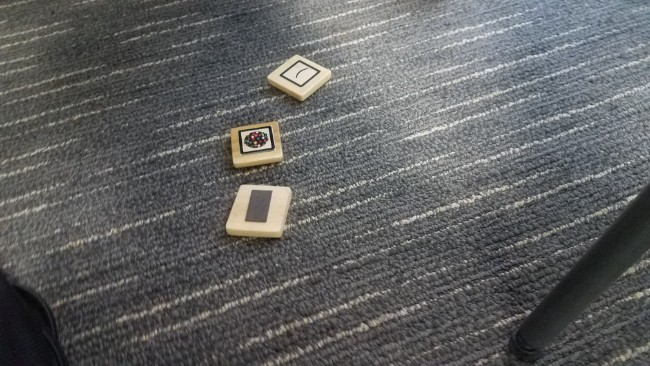cookie: (229, 120, 281, 166)
